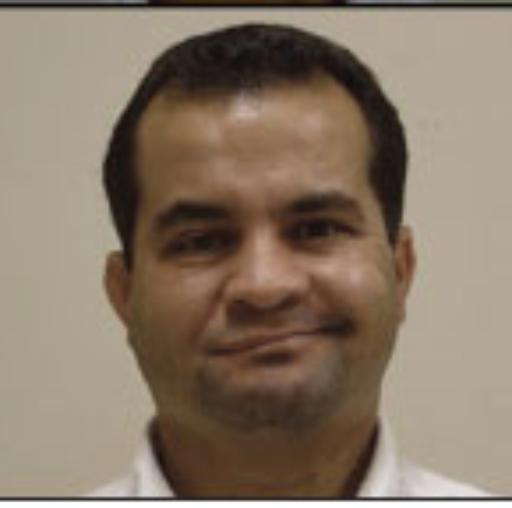left_eye: (285, 218, 358, 245)
left_lip_corner: (315, 321, 352, 342)
right_eye: (165, 229, 237, 258)
right_lip_corner: (194, 344, 226, 364)
